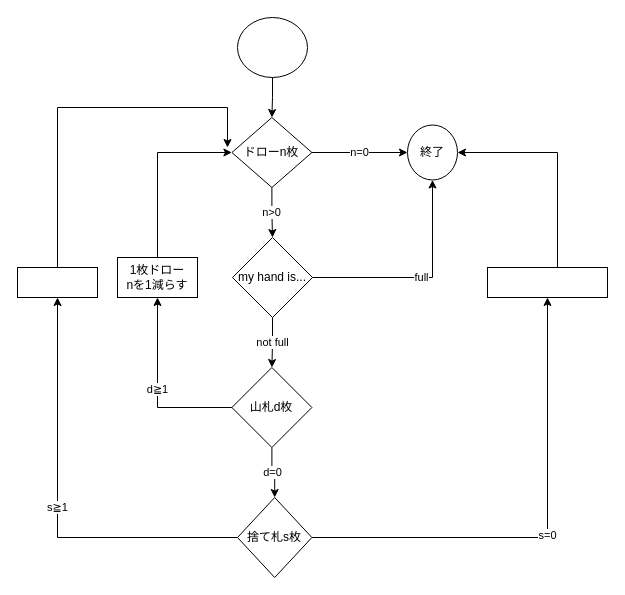
Image size: 625x595. Some labels were removed from this diagram. The shapes that lost their labels are listed below. From the top down, each one's centre as x and y in pixels, then its label:
At pixel 272 47: "スタート".
At pixel 57 282: "シャッフル".
At pixel 547 282: "ボーナスシャッフル".
